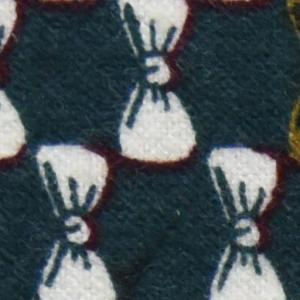Oil Stain: (285, 88, 300, 168), (281, 1, 300, 40)
Wrinkle: (109, 184, 209, 300)
